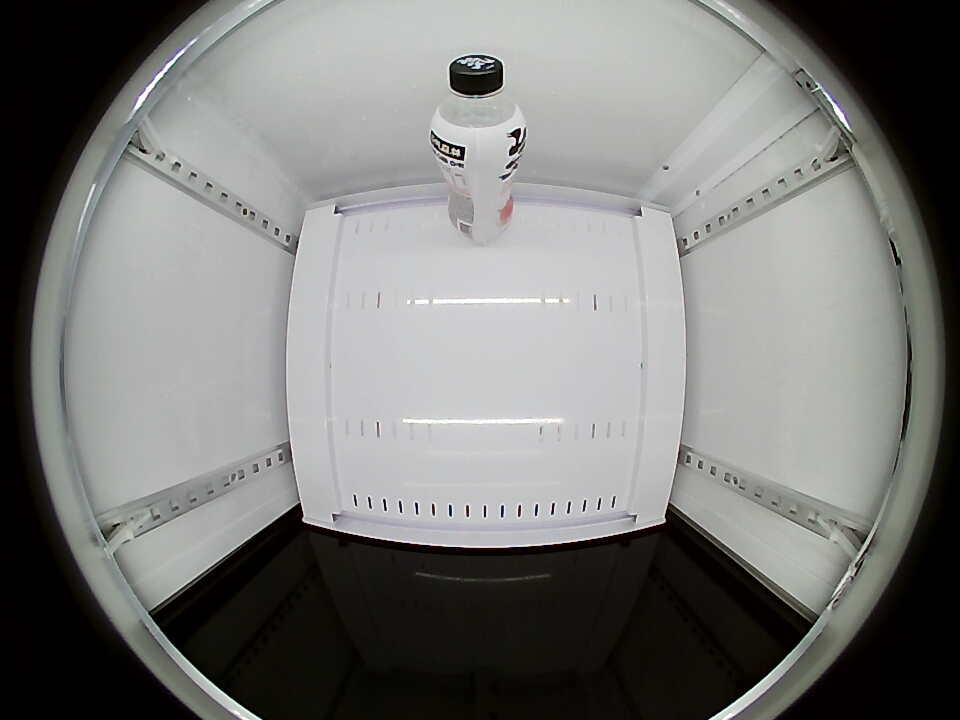yuanqishui: (430, 55, 527, 161)
